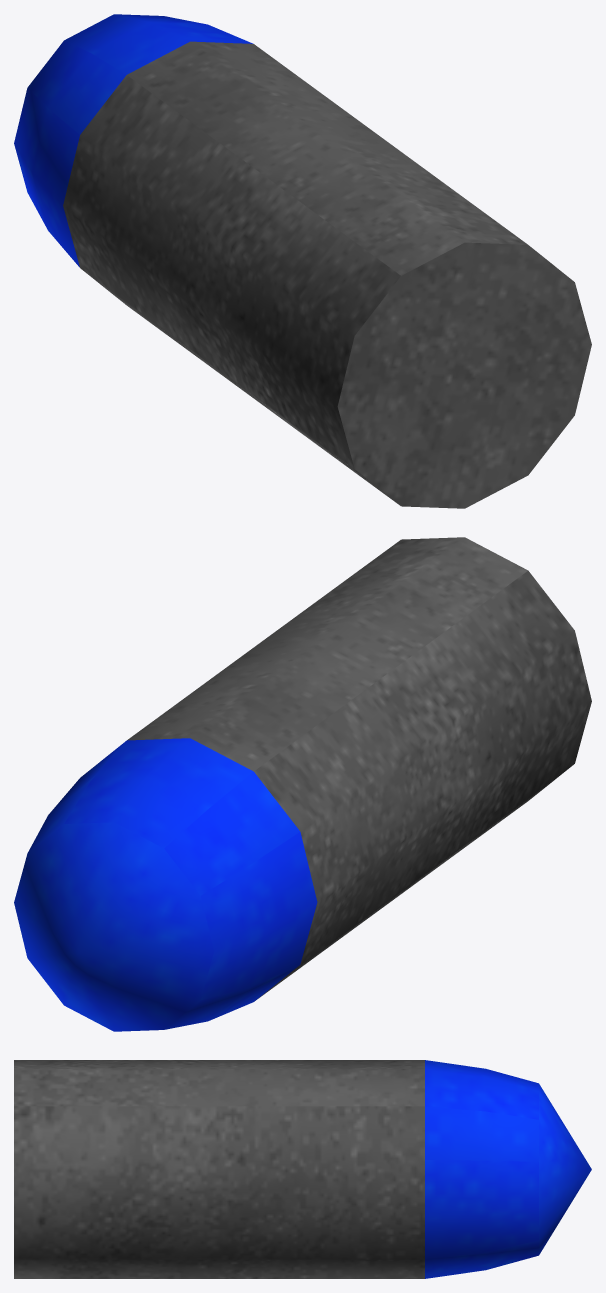
The model's file is rocket_01.obj.
The picture shows the model from 3 angles, top to bottom: view 1: azimuth 30°, elevation 25°; view 2: azimuth 150°, elevation 25°; view 3: azimuth 270°, elevation 25°; orthographic projection. The views are drawn at different scales.
Parts seen in each view (by area): view 1: rocket_bomb_01; view 2: rocket_bomb_01; view 3: rocket_bomb_01.
Boxes of the visible parts, box(x1,y1,x2,y2) form: rocket_bomb_01: box(14, 14, 591, 508); rocket_bomb_01: box(14, 537, 591, 1031); rocket_bomb_01: box(14, 1060, 591, 1278).
Bounding box in the file's own units: 73.58 × 73.58 × 193.
